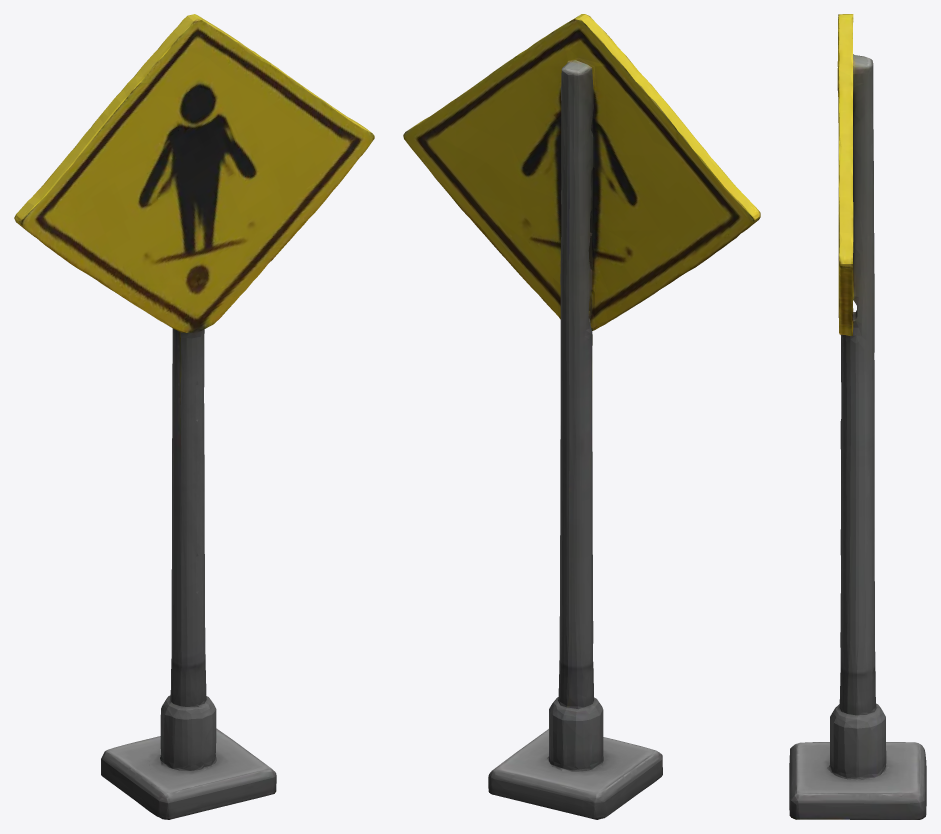
File: pedestrian sign.glb
3 renders of one model, left to right at view 1: azimuth 30°, elevation 25°; view 2: azimuth 150°, elevation 25°; view 3: azimuth 270°, elevation 25°, orthographic.
Visible parts, largest first — view 1: world; view 2: world; view 3: world.
Part boxes in pixels (x1,y1,x2,y2): world: [14, 14, 374, 819]; world: [403, 14, 760, 819]; world: [789, 14, 926, 819].
Bounding box in the file's own units: 0.482 × 1 × 0.1602.
1 material, 1 textured.
